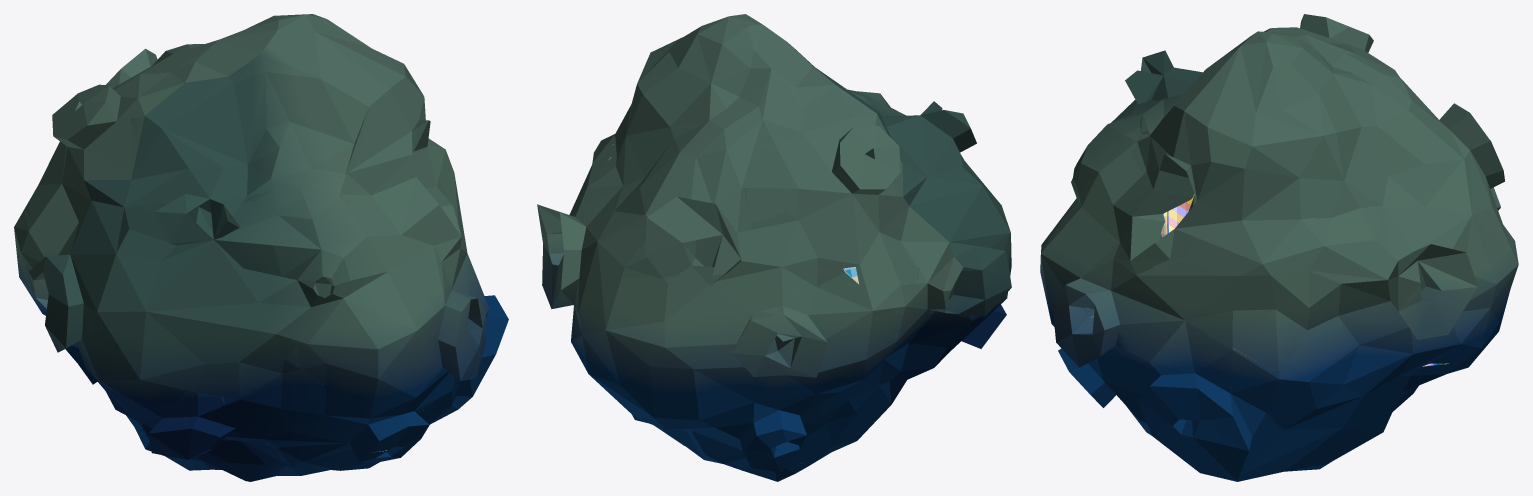
Rendered from Asteroid_1.fbx.
3 views of the same model, side by side, from view 1: azimuth 30°, elevation 25°; view 2: azimuth 150°, elevation 25°; view 3: azimuth 270°, elevation 25° (orthographic). The views are drawn at different scales.
Visible parts, largest first — view 1: Sphere.009, Sphere.009_cell.011, Sphere.009_cell.063, Sphere.009_cell.014, Sphere.009_cell.007, Sphere.009_cell.069, Sphere.009_cell.046, Sphere.009_cell.027, Sphere.009_cell.078, Sphere.009_cell.061, Sphere.009_cell.067, Sphere.009_cell.057 (+10 smaller); view 2: Sphere.009, Sphere.009_cell.011, Sphere.009_cell.008, Sphere.009_cell.057, Sphere.009_cell.069, Sphere.009_cell.074, Sphere.009_cell.047, Sphere.009_cell.082, Sphere.009_cell.040, Sphere.009_cell.048, Sphere.009_cell.049, Sphere.009_cell.033 (+9 smaller); view 3: Sphere.009, Sphere.009_cell.011, Sphere.009_cell.064, Sphere.009_cell.038, Sphere.009_cell.065, Sphere.009_cell.046, Sphere.009_cell.047, Sphere.009_cell.049, Sphere.009_cell.048, Sphere.009_cell.063, Sphere.009_cell.015, Sphere.009_cell.025 (+8 smaller).
Boxes of the visible parts, left/top/right/bottom form: Sphere.009: left=14, top=14, right=508, bottom=481; Sphere.009_cell.011: left=18, top=14, right=508, bottom=481; Sphere.009_cell.063: left=261, top=28, right=393, bottom=178; Sphere.009_cell.014: left=55, top=198, right=193, bottom=404; Sphere.009_cell.007: left=131, top=50, right=271, bottom=195; Sphere.009_cell.069: left=33, top=85, right=149, bottom=251; Sphere.009_cell.046: left=368, top=54, right=452, bottom=207; Sphere.009_cell.027: left=286, top=190, right=406, bottom=385; Sphere.009_cell.078: left=217, top=97, right=337, bottom=202; Sphere.009_cell.061: left=227, top=359, right=325, bottom=424; Sphere.009_cell.067: left=296, top=371, right=447, bottom=450; Sphere.009_cell.057: left=79, top=351, right=208, bottom=459; Sphere.009: left=542, top=14, right=1011, bottom=481; Sphere.009_cell.011: left=537, top=16, right=1010, bottom=480; Sphere.009_cell.008: left=592, top=274, right=773, bottom=378; Sphere.009_cell.057: left=886, top=307, right=1006, bottom=390; Sphere.009_cell.069: left=825, top=125, right=927, bottom=284; Sphere.009_cell.074: left=706, top=375, right=823, bottom=472; Sphere.009_cell.047: left=537, top=204, right=591, bottom=308; Sphere.009_cell.082: left=739, top=128, right=837, bottom=288; Sphere.009_cell.040: left=751, top=181, right=859, bottom=293; Sphere.009_cell.048: left=599, top=154, right=752, bottom=277; Sphere.009_cell.049: left=582, top=121, right=706, bottom=244; Sphere.009_cell.033: left=791, top=368, right=894, bottom=468; Sphere.009: left=1041, top=27, right=1513, bottom=481; Sphere.009_cell.011: left=1040, top=18, right=1518, bottom=433; Sphere.009_cell.064: left=1172, top=169, right=1316, bottom=334; Sphere.009_cell.038: left=1197, top=348, right=1375, bottom=474; Sphere.009_cell.065: left=1226, top=221, right=1387, bottom=371; Sphere.009_cell.046: left=1136, top=115, right=1261, bottom=270; Sphere.009_cell.047: left=1373, top=232, right=1489, bottom=369; Sphere.009_cell.049: left=1323, top=113, right=1463, bottom=250; Sphere.009_cell.048: left=1439, top=103, right=1503, bottom=214; Sphere.009_cell.063: left=1147, top=33, right=1261, bottom=138; Sphere.009_cell.015: left=1327, top=367, right=1419, bottom=463; Sphere.009_cell.025: left=1264, top=74, right=1398, bottom=183.
Size of the model in its own units: 86.78 by 88.1 by 89.18.
Materials: 1 (1 with a texture image).
